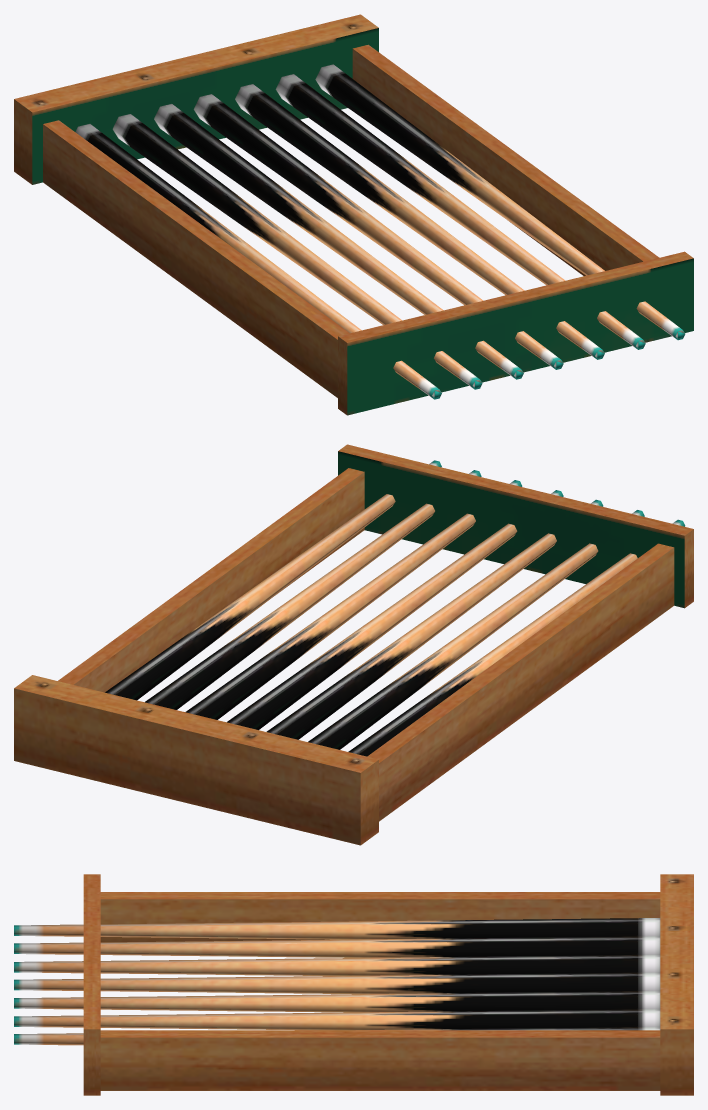
Rendered from cuerack.fbx.
3 views of the same model, one above another, from view 1: azimuth 30°, elevation 25°; view 2: azimuth 150°, elevation 25°; view 3: azimuth 270°, elevation 25° (orthographic). The views are drawn at different scales.
Visible parts, largest first — view 1: mesh_0; view 2: mesh_0; view 3: mesh_0.
Boxes of the visible parts, x1=… form: mesh_0: x1=14, y1=14, x2=693, y2=415; mesh_0: x1=14, y1=444, x2=693, y2=845; mesh_0: x1=14, y1=874, x2=693, y2=1095.
Size of the model in its own units: 100 by 20 by 186.
Materials: 1 (1 with a texture image).
